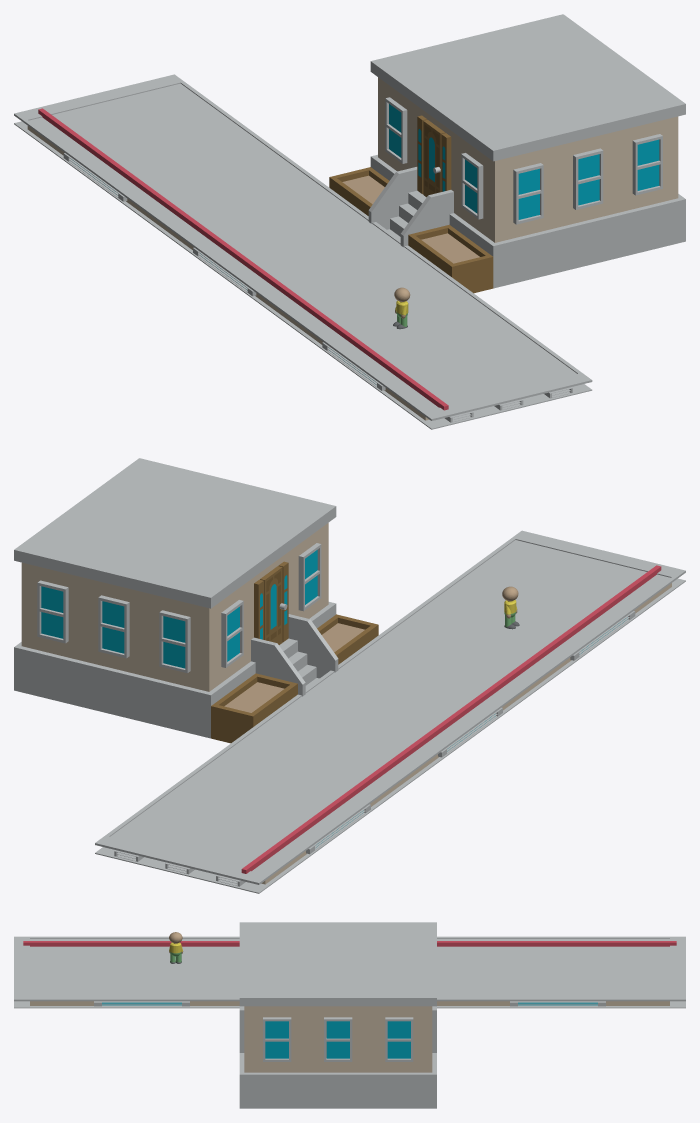
The model's file is train_station.glb.
The picture shows the model from 3 angles, top to bottom: view 1: azimuth 30°, elevation 25°; view 2: azimuth 150°, elevation 25°; view 3: azimuth 270°, elevation 25°; orthographic projection. The views are drawn at different scales.
Visible parts, largest first — view 1: Mesh_Mesh_head_geo.001_lambert2SG.001; view 2: Mesh_Mesh_head_geo.001_lambert2SG.001; view 3: Mesh_Mesh_head_geo.001_lambert2SG.001.
Boxes of the visible parts, <box> form: Mesh_Mesh_head_geo.001_lambert2SG.001: <box>14,14,685,429</box>; Mesh_Mesh_head_geo.001_lambert2SG.001: <box>14,458,685,893</box>; Mesh_Mesh_head_geo.001_lambert2SG.001: <box>14,922,685,1108</box>.
Size of the model in its own units: 78 by 26 by 143.
